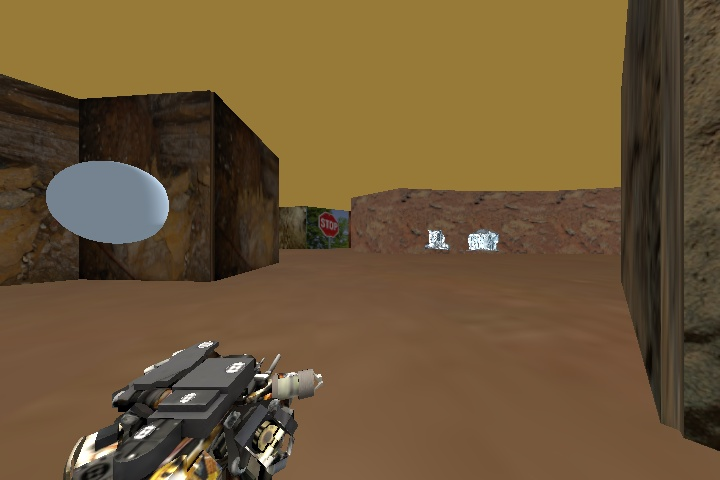minerals: (465, 232, 496, 252), (424, 228, 447, 249)
sign: (319, 211, 341, 238)
sphere: (44, 160, 170, 245)
